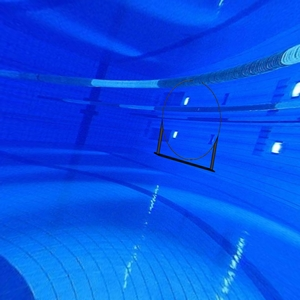circle: (154, 77, 221, 176)
